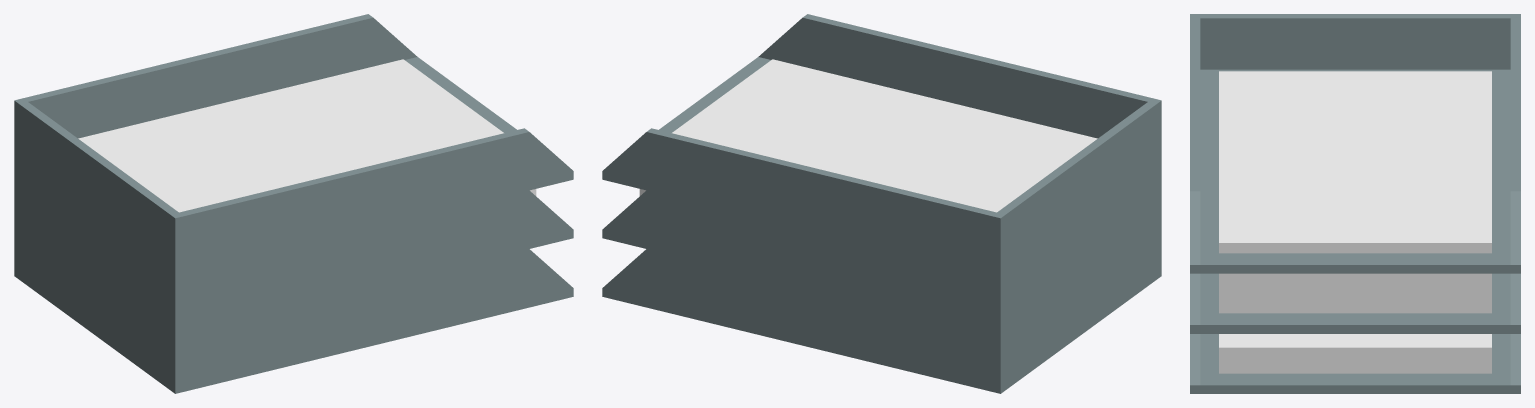
Rendered from paper_holder.glb.
3 renders of one model, left to right at view 1: azimuth 30°, elevation 25°; view 2: azimuth 150°, elevation 25°; view 3: azimuth 270°, elevation 25°, orthographic. The views are drawn at different scales.
Parts seen in each view (by area): view 1: Cube; view 2: Cube; view 3: Cube.
Boxes of the visible parts, x1,y1,x2,y2 form: Cube: (14, 14, 573, 393); Cube: (602, 14, 1161, 393); Cube: (1190, 14, 1520, 393).
Size of the model in its own units: 2.05 by 0.8614 by 1.43.
1 material, 1 textured.
